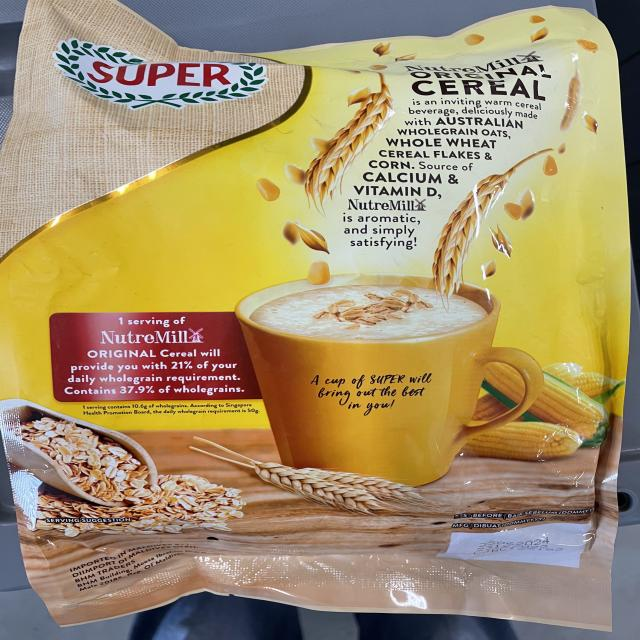object_name: (9, 25, 613, 619)
